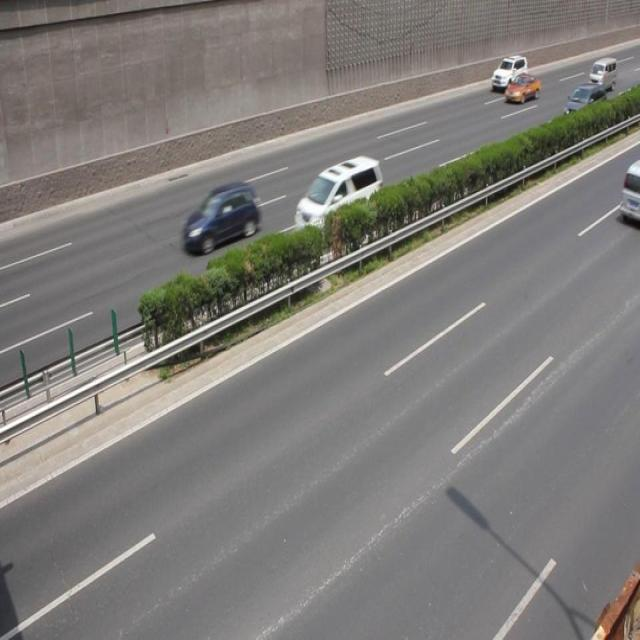car: (292, 156, 382, 243), (179, 181, 261, 255), (560, 85, 606, 126), (491, 55, 526, 91), (502, 72, 538, 102)
truck: (586, 56, 615, 94)
